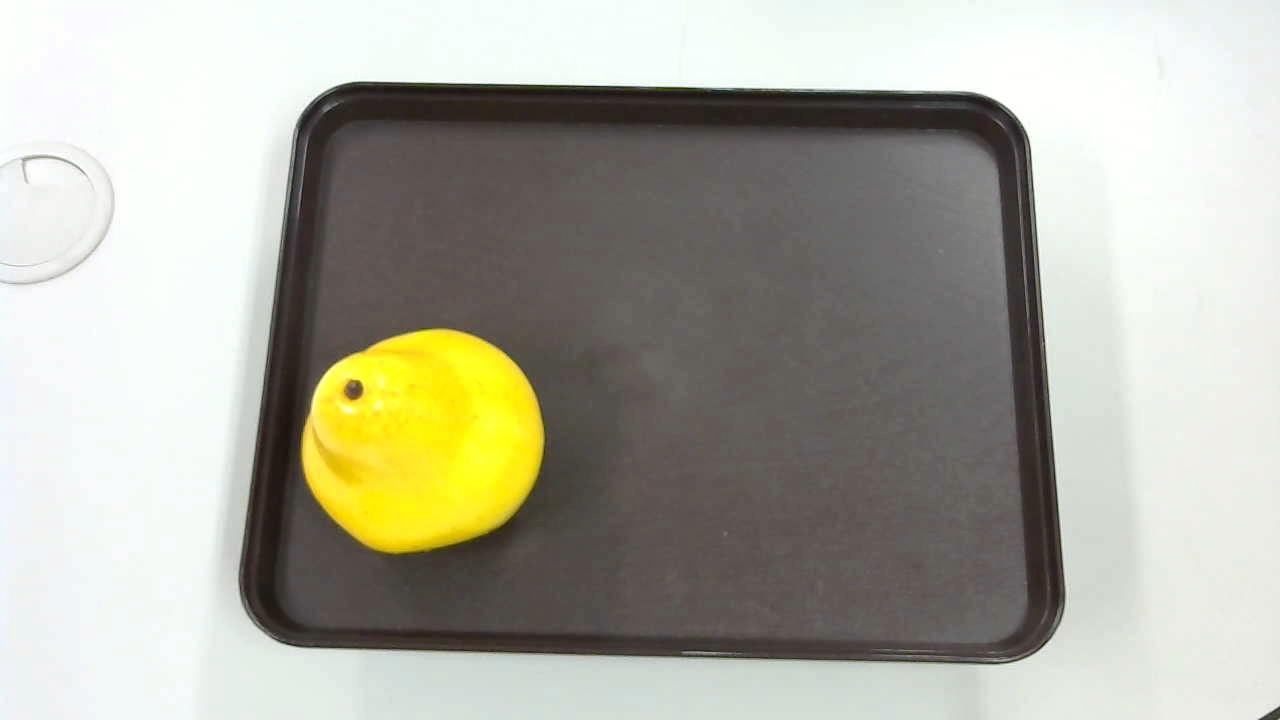yellow pear: (291, 325, 554, 558)
